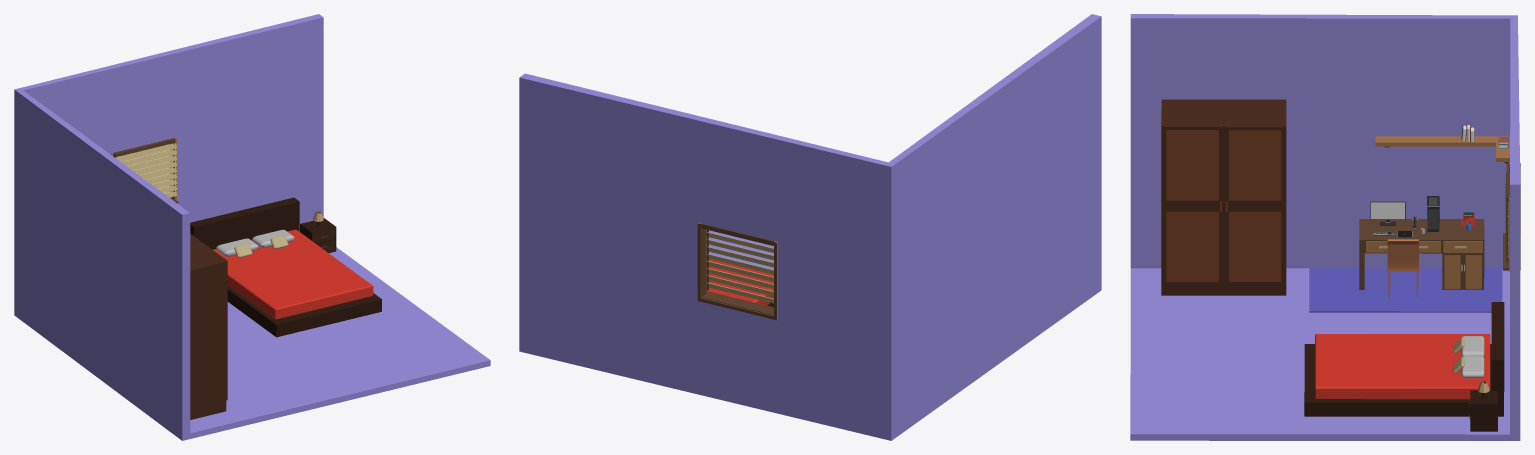
Rendered from room.fbx.
3 renders of one model, left to right at view 1: azimuth 30°, elevation 25°; view 2: azimuth 150°, elevation 25°; view 3: azimuth 270°, elevation 25°, orthographic. The views are drawn at different scales.
Parts seen in each view (by area): view 1: room, Mattres, closet, Bed, window, Small drawer; view 2: room, window, Mattres; view 3: room, closet, Mattres, Plane, drawer, Bed, shelf, chair, Small drawer, Monitor, window, pillow.001 (+2 smaller).
Boxes of the visible parts, x1,y1,x2,y2 form: room: (14,14,490,440); Mattres: (213,229,373,319); closet: (190,233,227,419); Bed: (190,197,381,337); window: (111,137,178,203); Small drawer: (300,218,336,252); room: (519,14,1101,440); window: (697,223,777,320); Mattres: (706,258,773,305); room: (1130,14,1520,440); closet: (1161,99,1286,295); Mattres: (1315,334,1490,399); Plane: (1309,267,1502,312); drawer: (1359,219,1484,289); Bed: (1304,302,1504,416); shelf: (1375,136,1509,163); chair: (1387,239,1418,297); Small drawer: (1469,390,1497,431); Monitor: (1370,201,1405,225); window: (1503,162,1520,271); pillow.001: (1461,356,1484,378).
Size of what is drawn, in the model's own units: 648 by 453 by 626.
